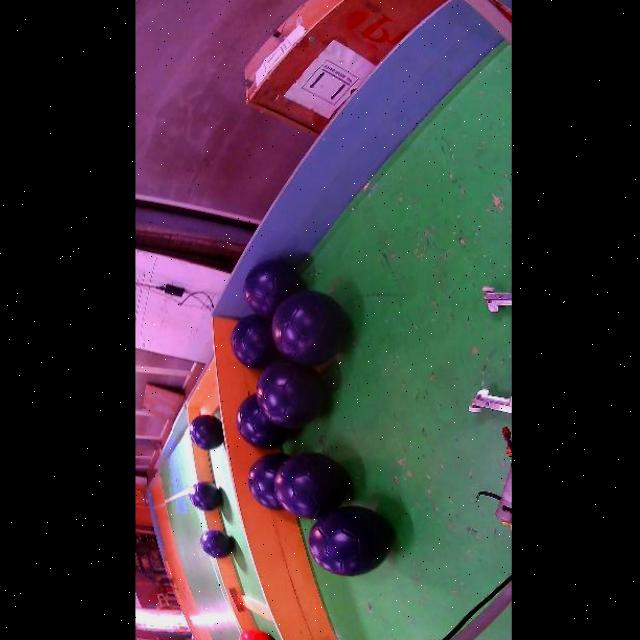B: (306, 507, 390, 576), (271, 291, 345, 365), (272, 453, 346, 520), (255, 362, 323, 428), (242, 261, 301, 318), (234, 394, 290, 449), (229, 315, 280, 369), (246, 453, 287, 511), (188, 415, 222, 450), (187, 482, 220, 511), (199, 530, 231, 558)
R: (237, 630, 271, 640)
